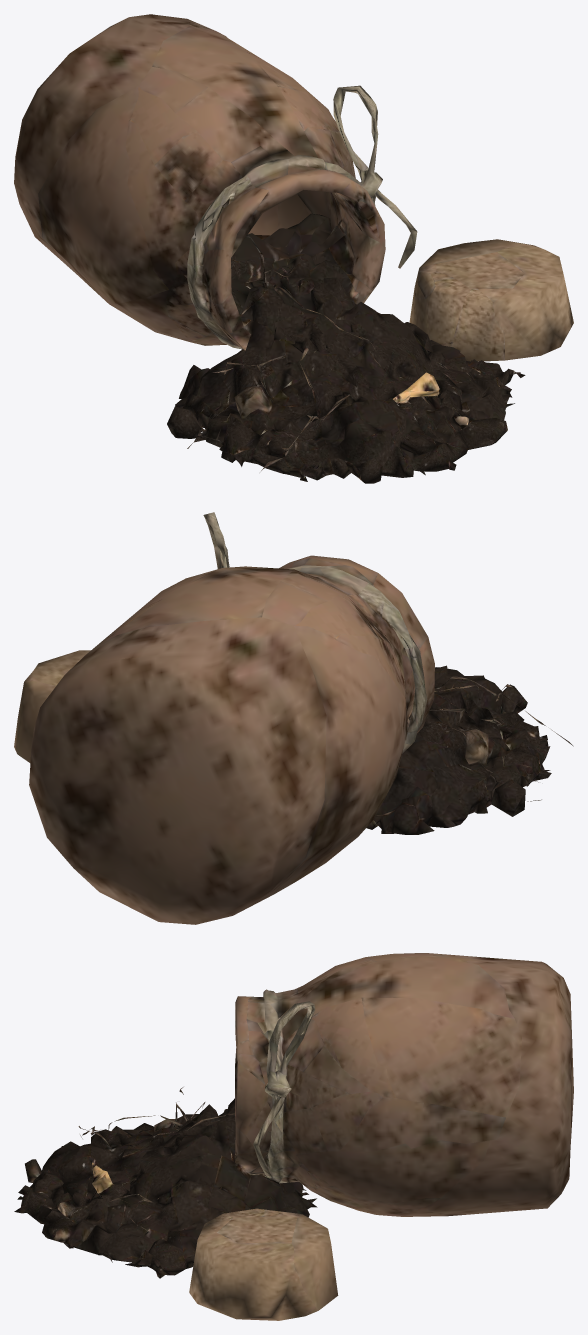
File: grave_dirt.6fcb325d.glb
The picture shows the model from 3 angles, top to bottom: view 1: azimuth 30°, elevation 25°; view 2: azimuth 150°, elevation 25°; view 3: azimuth 270°, elevation 25°; orthographic projection. The views are drawn at different scales.
Parts seen in each view (by area): view 1: item; view 2: item; view 3: item.
Part boxes in pixels (<box>): item: <box>14,14,573,483</box>; item: <box>14,512,573,924</box>; item: <box>14,953,573,1320</box>.
Size of the model in its own units: 0.1283 by 0.0739 by 0.16.
1 material, 1 textured.
